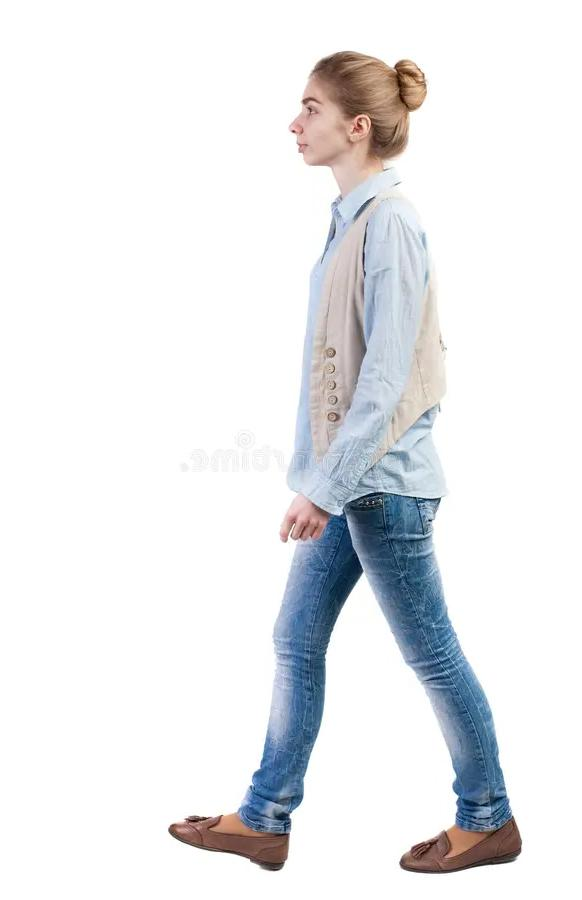long sleeve shirt: (285, 164, 451, 519)
trousers: (237, 477, 518, 839)
